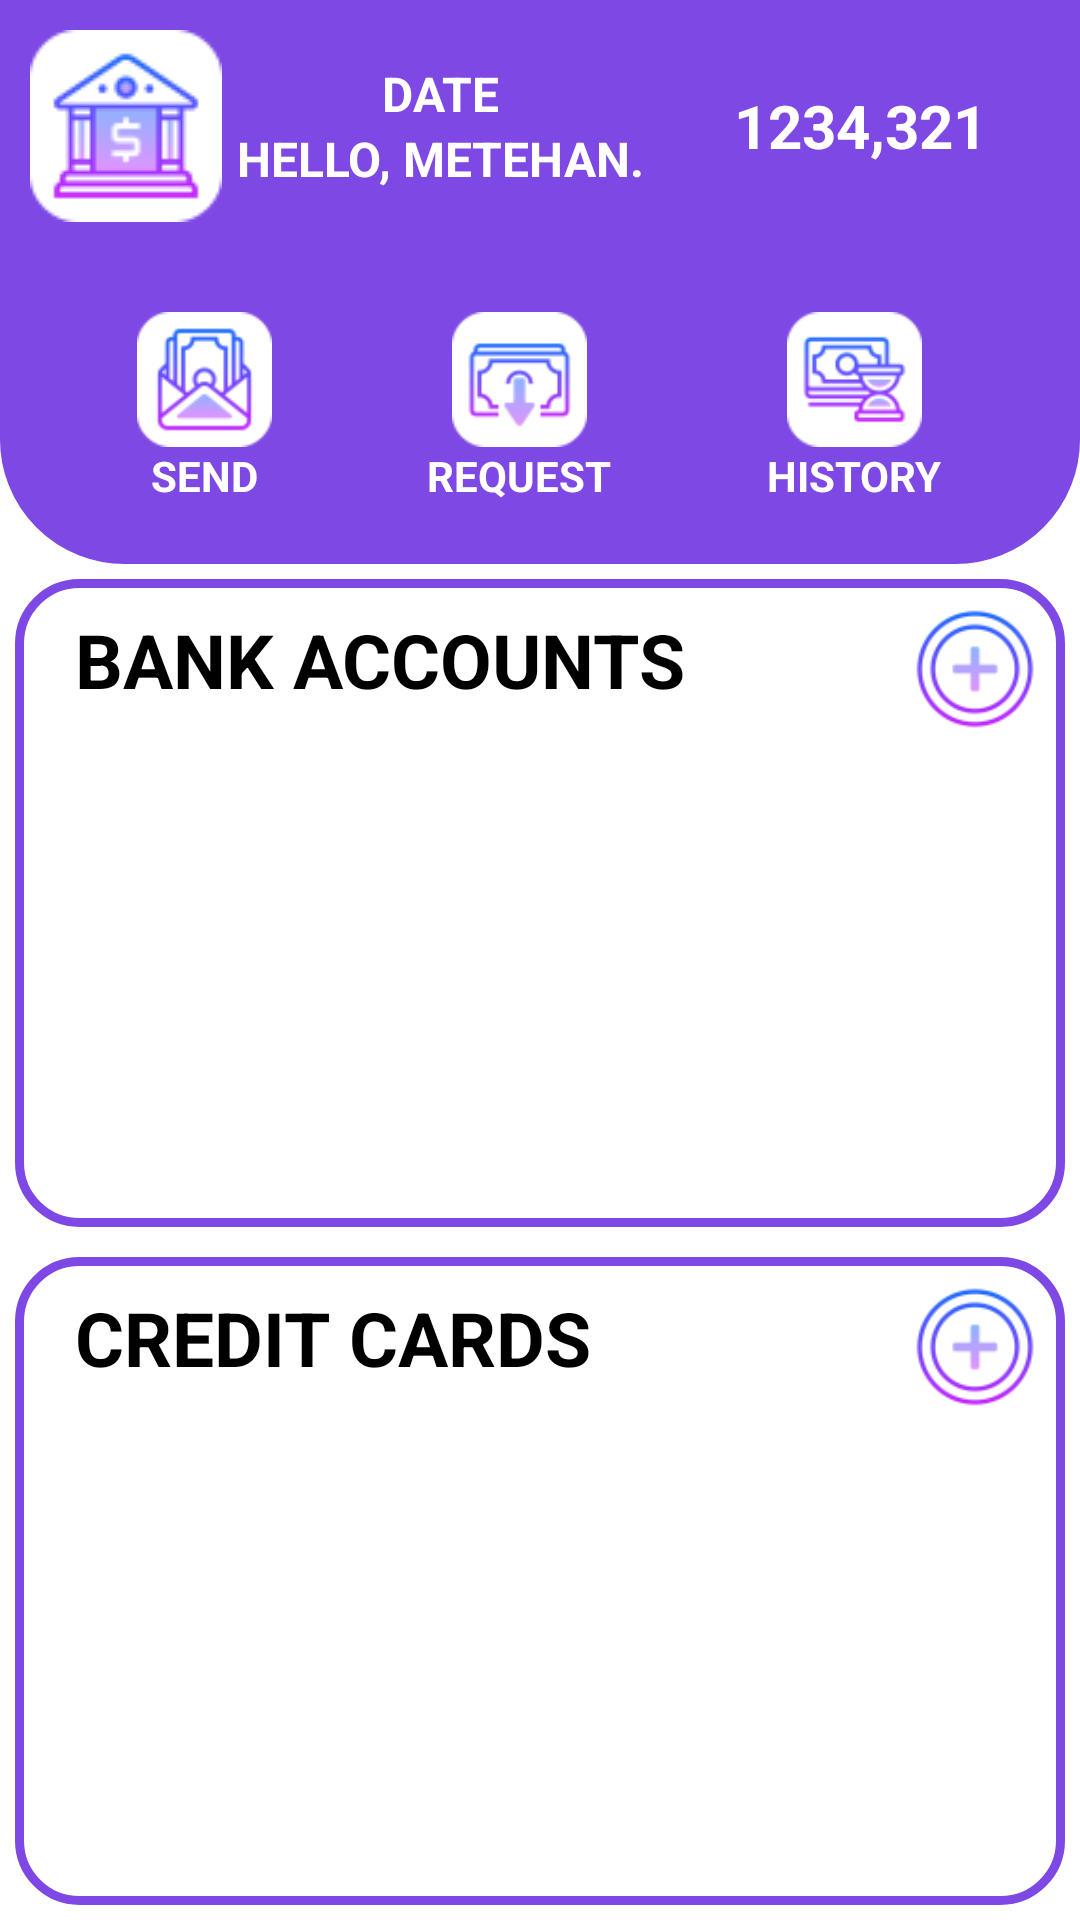

Screen size 1080x1920. Icon name, then its box in pixels as bbox=[x1, y1, x2, y2]:
bank whiteback: bbox=[30, 30, 222, 222]
plus: bbox=[916, 610, 1034, 728], bbox=[916, 1288, 1034, 1406]
